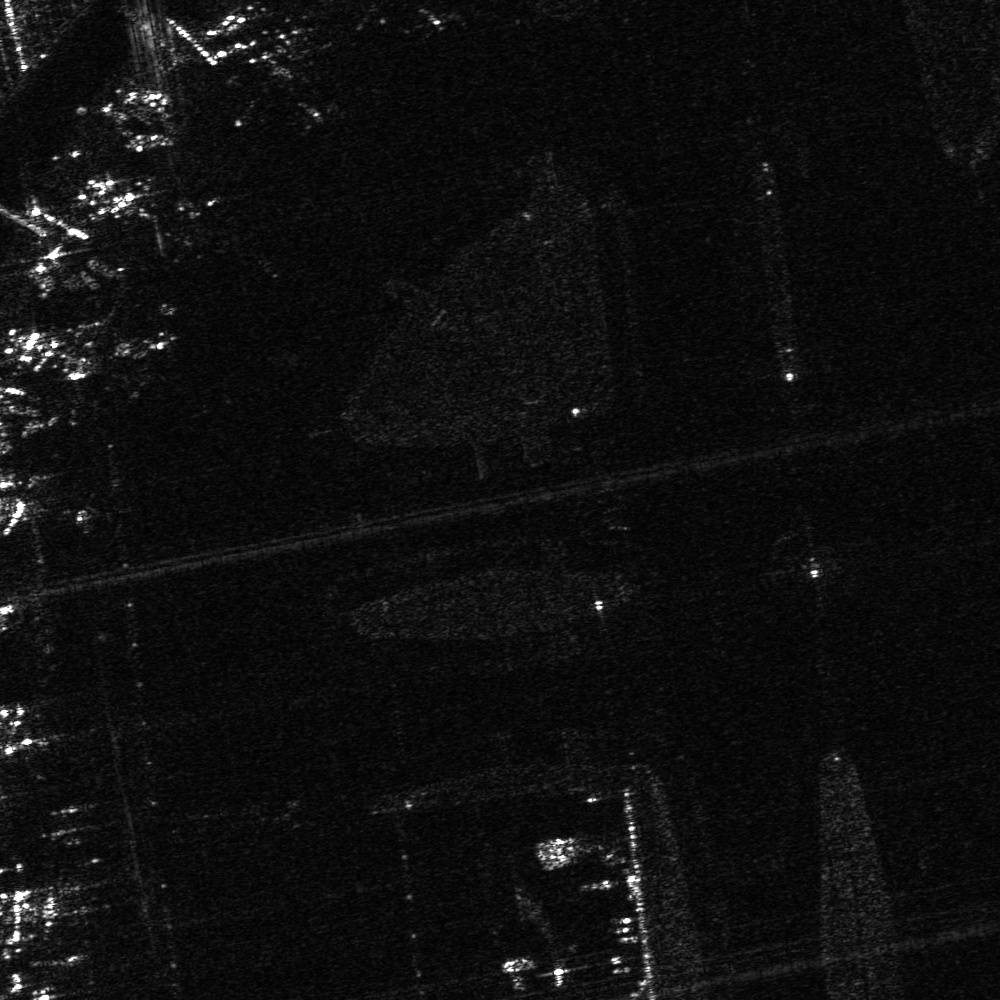Boeing787: (236, 38, 334, 125), (136, 183, 222, 269)
other: (18, 470, 94, 546)
